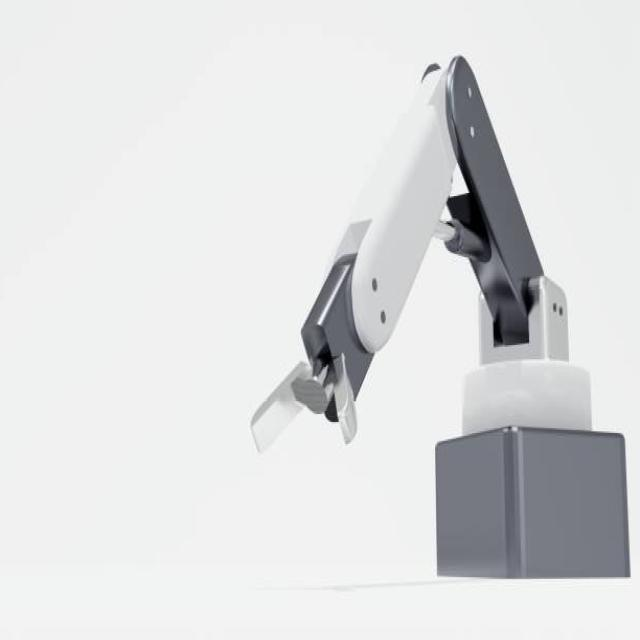Robotic-arm: (246, 51, 630, 604)
